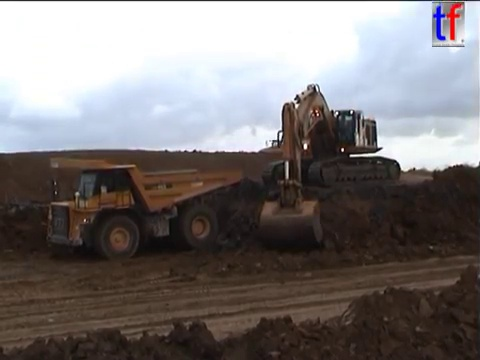excavator: (254, 80, 404, 249)
truck: (39, 154, 243, 262), (257, 136, 330, 163)
